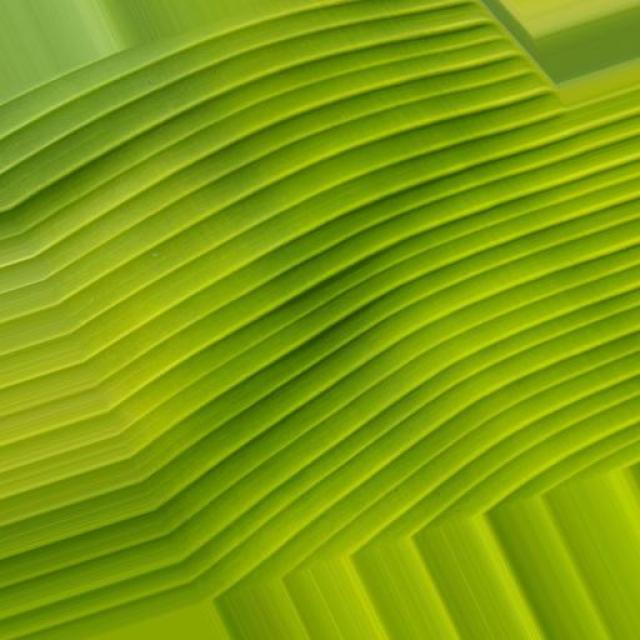Black_leaf_spot: (0, 0, 608, 605)
